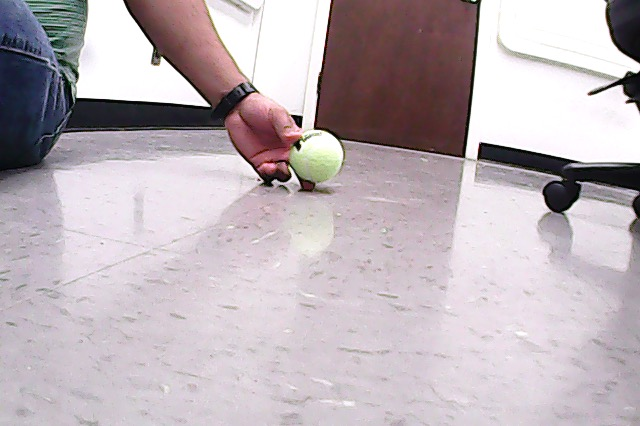ball: (290, 130, 344, 183)
